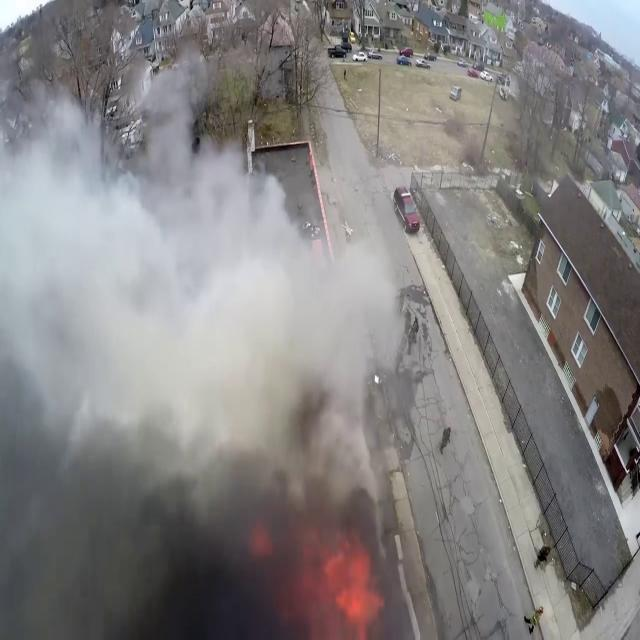Smoke: (0, 30, 412, 612)
